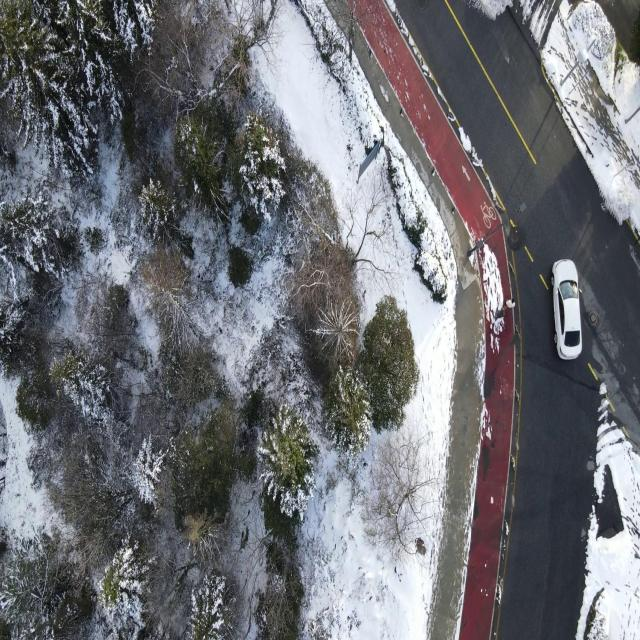p3rson: (494, 306, 506, 321), (504, 298, 516, 312)
